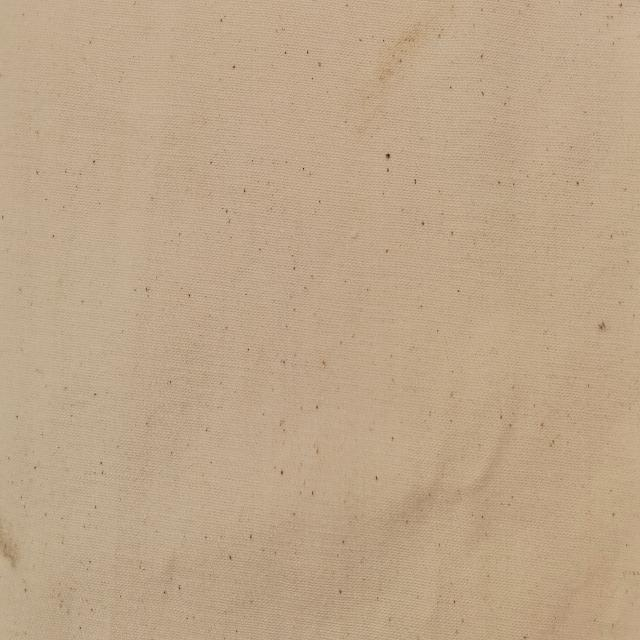taaaches: (364, 11, 427, 110), (1, 510, 23, 578)
